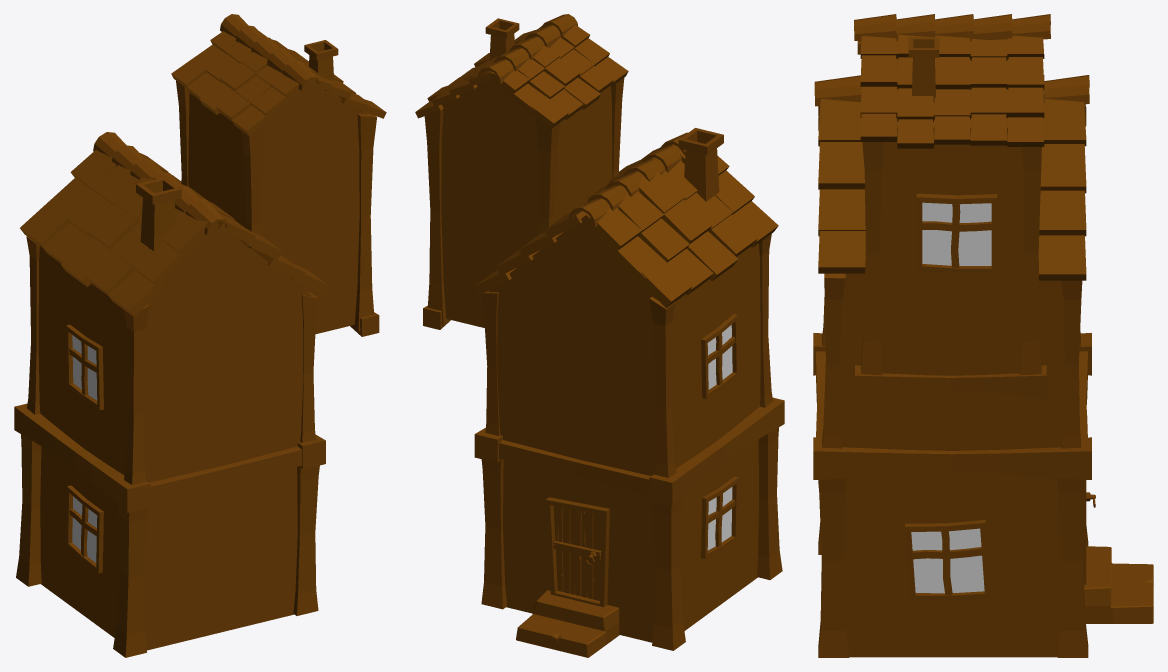
File: дом7 .fbx
The picture shows the model from 3 angles, left to right: view 1: azimuth 30°, elevation 25°; view 2: azimuth 150°, elevation 25°; view 3: azimuth 270°, elevation 25°; orthographic projection. The views are drawn at different scales.
Visible parts, largest first — view 1: Куб.016; view 2: Куб.016; view 3: Куб.016.
Part boxes in pixels (x1,y1,x2,y2): Куб.016: (14,14,386,657); Куб.016: (415,14,784,657); Куб.016: (813,14,1153,657).
Bounding box in the file's own units: 177 × 319 × 151.
